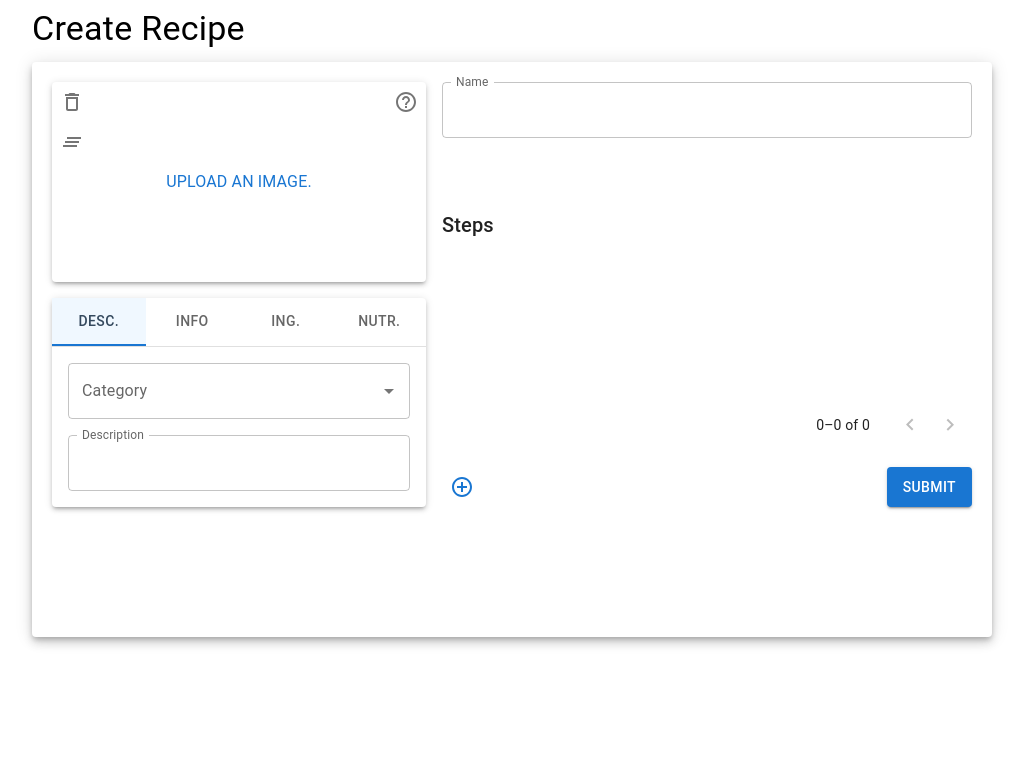
Make sure images display and work › Test delete tooltip shows
# Tooltip displays text on hover
Hover over the button named "Delete Current Image".
mouse_move(72, 102)  # box [52,82,92,122]
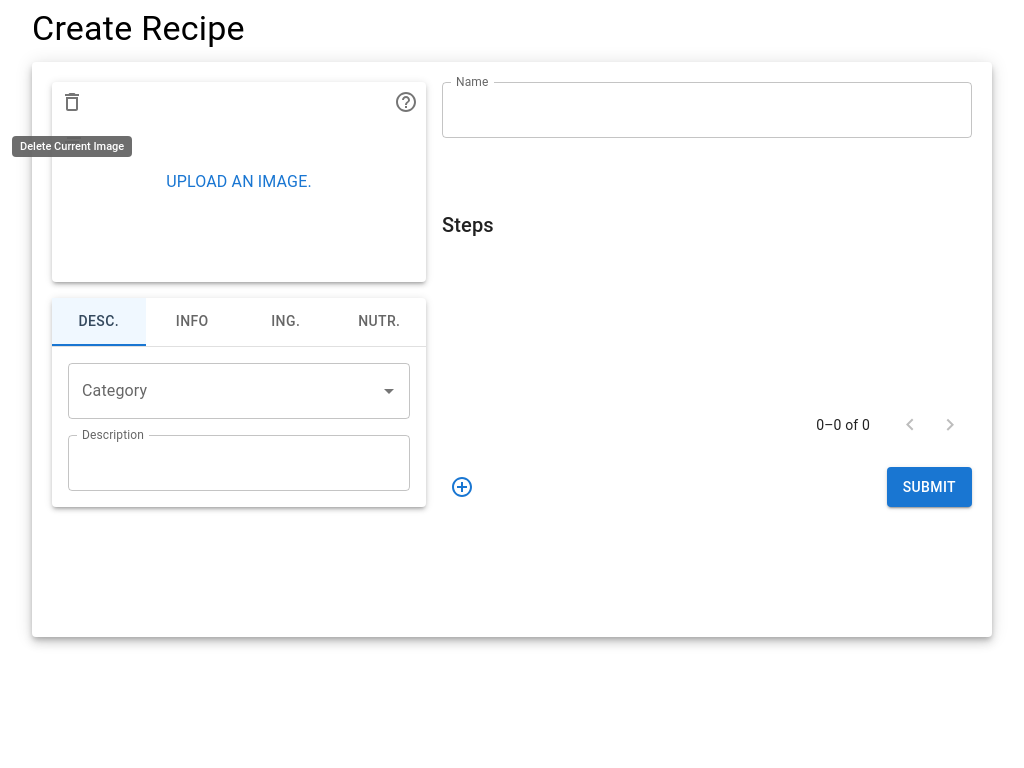
Expected: the tooltip "Delete Current Image" is shown, [12,136,132,157]
